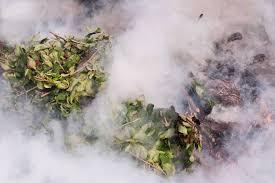smoke: (7, 137, 118, 179), (129, 34, 178, 102), (3, 2, 67, 35)
